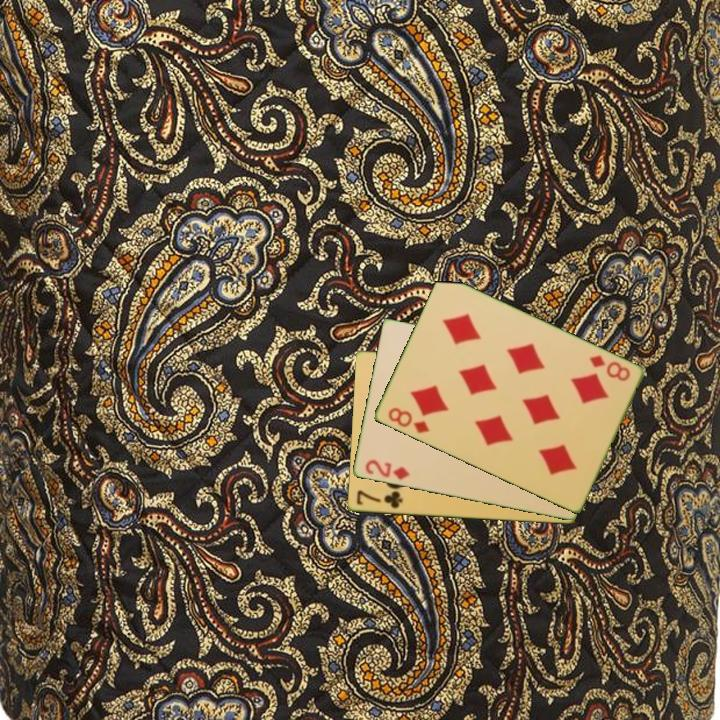2d: (361, 456, 412, 483)
7c: (353, 487, 405, 512)
8d: (384, 404, 432, 437), (585, 351, 633, 384)
